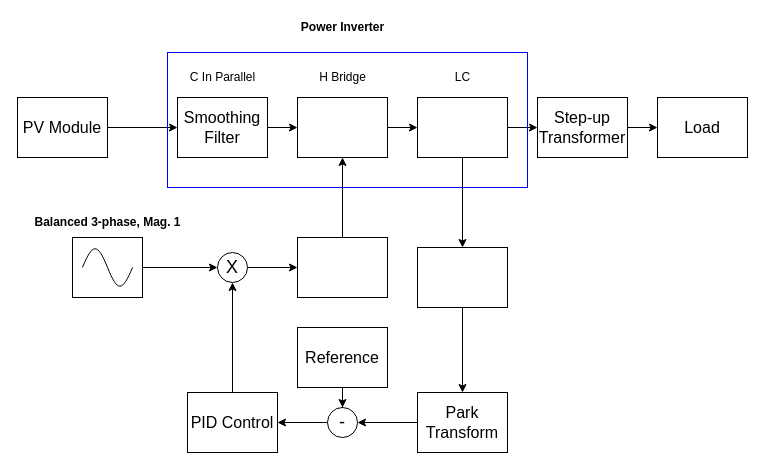
This 765x470 diagram has some shape labels left out. Each missing label, with the box of its shape:
2-level PWM: (296, 236, 388, 298)
DC/AC: (296, 96, 388, 158)
Lowpass Filter: (416, 96, 508, 158)
PLL: (416, 246, 508, 308)
